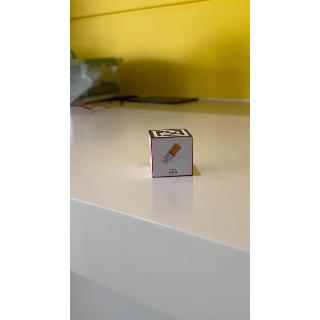Syringe: (152, 137, 196, 178)
